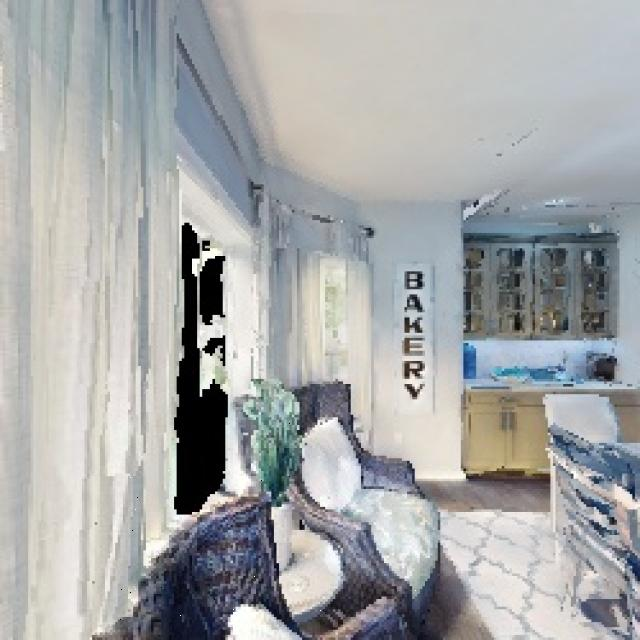sofa: (271, 366, 443, 640), (110, 466, 351, 640)
